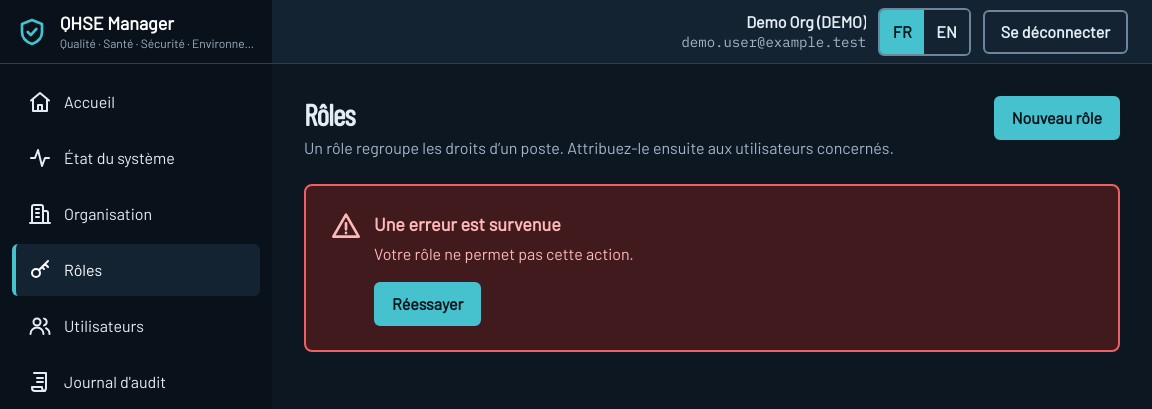
roles › shows an error with a retry that works
The width and height of the screenshot is (1152, 409).
Expected: the message shows "Votre rôle ne permet pas cette action.", [374,244,634,263]
What coordinates should you click on to do the following:
click the button "Réessayer"
I would click on:
 (428, 304)
Its box is [374,282,481,326].
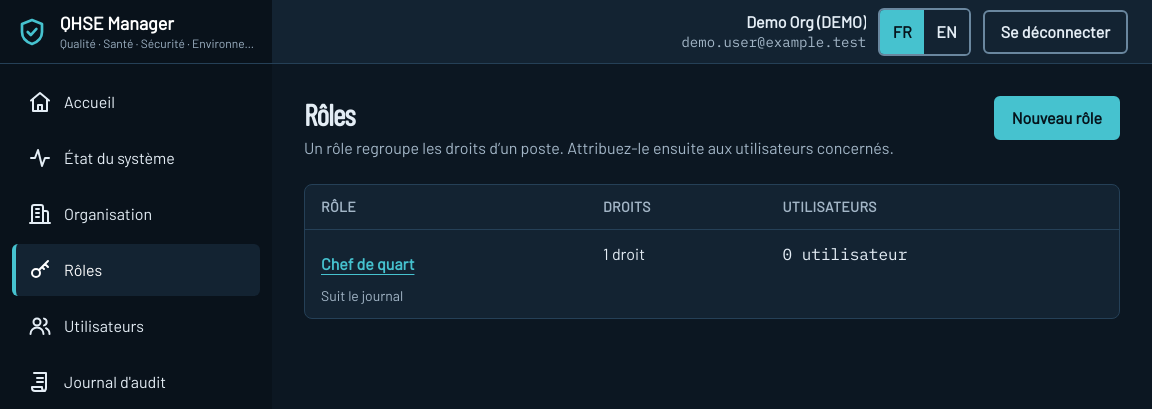
Expected: the link "Chef de quart" is shown, [321,254,414,273]
